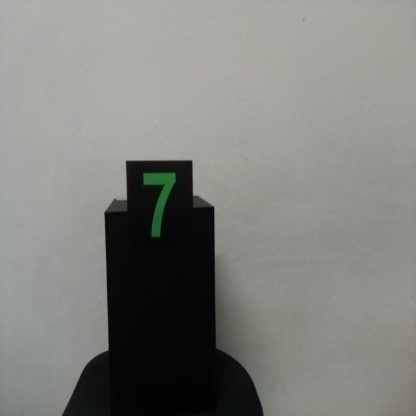id_7: (126, 162, 193, 256)
